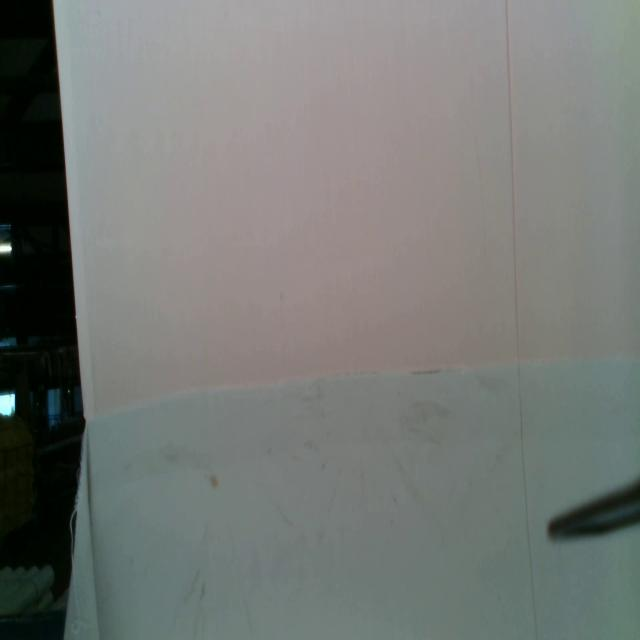crease: (504, 0, 538, 640)
